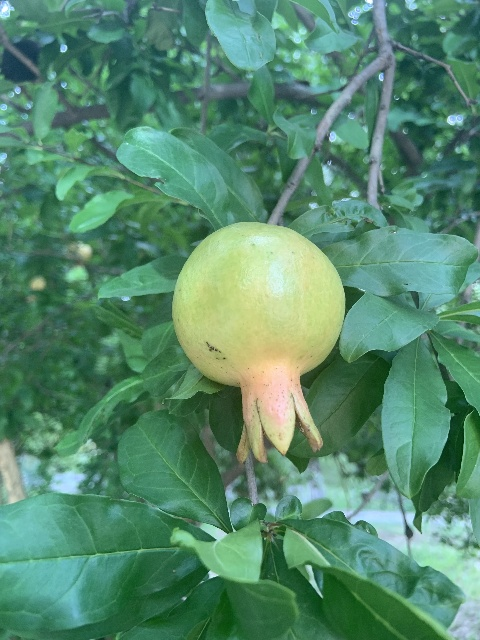mid-growth: (170, 221, 346, 463)
